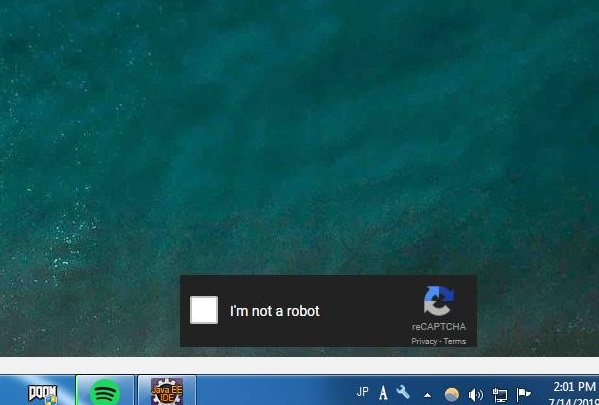captcha: (189, 295, 322, 324)
